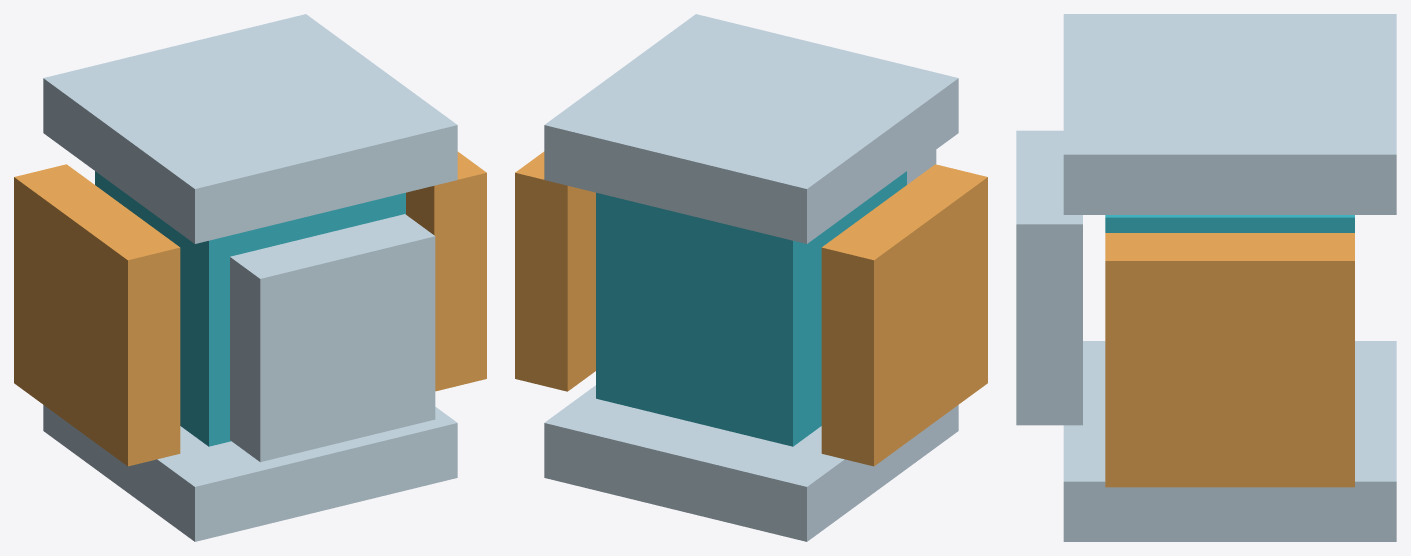
The model's file is Demo assembly.gltf.
3 renders of one model, left to right at view 1: azimuth 30°, elevation 25°; view 2: azimuth 150°, elevation 25°; view 3: azimuth 270°, elevation 25°, orthographic. The views are drawn at different scales.
Visible parts, largest first — view 1: Top, Front, Left, Base, Core, Right; view 2: Top, Core, Left, Base, Right; view 3: Top, Right, Base, Front, Core.
Part boxes in pixels (x1=…): Top: x1=43, y1=14, x2=457, y2=243; Front: x1=230, y1=214, x2=435, y2=462; Left: x1=14, y1=164, x2=180, y2=466; Base: x1=43, y1=405, x2=457, y2=541; Core: x1=95, y1=171, x2=405, y2=446; Right: x1=406, y1=151, x2=486, y2=391; Top: x1=544, y1=14, x2=958, y2=243; Core: x1=596, y1=171, x2=906, y2=446; Left: x1=821, y1=164, x2=987, y2=466; Base: x1=544, y1=385, x2=958, y2=541; Right: x1=515, y1=151, x2=595, y2=391; Top: x1=1063, y1=14, x2=1396, y2=214; Right: x1=1105, y1=233, x2=1354, y2=487; Base: x1=1063, y1=341, x2=1396, y2=541; Front: x1=1016, y1=130, x2=1082, y2=425; Core: x1=1105, y1=215, x2=1354, y2=232.
Size of the model in its own units: 1.64 by 1.54 by 1.37.
